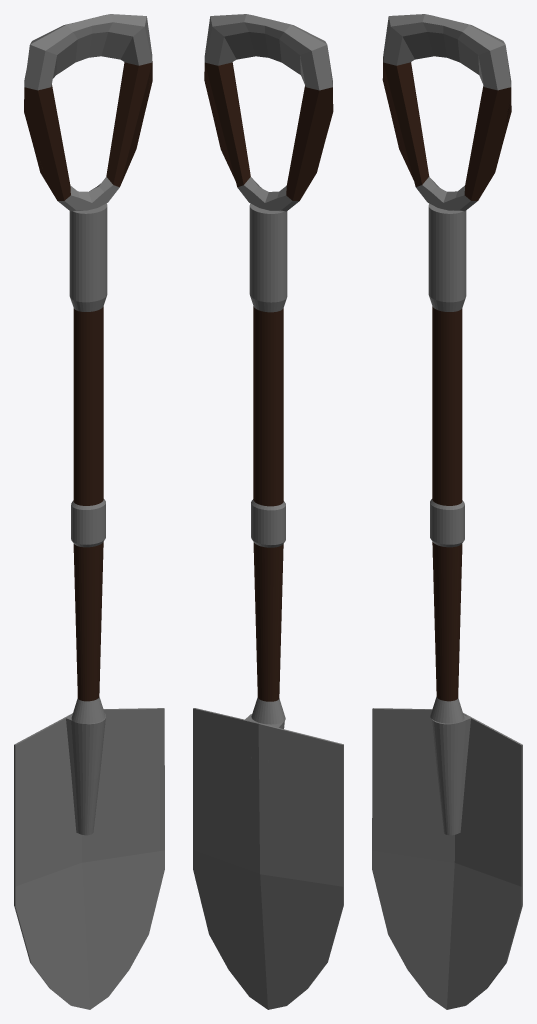
The model's file is shovel_basic.glb.
The picture shows the model from 3 angles, left to right: view 1: azimuth 30°, elevation 25°; view 2: azimuth 150°, elevation 25°; view 3: azimuth 330°, elevation 25°; orthographic projection.
Visible parts, largest first — view 1: Cone; view 2: Cone; view 3: Cone.
Part boxes in pixels (x1,y1,x2,y2): Cone: [14, 14, 164, 1009]; Cone: [193, 14, 343, 1009]; Cone: [372, 14, 522, 1009].
Bounding box in the file's own units: 15.94 × 101 × 3.3.
